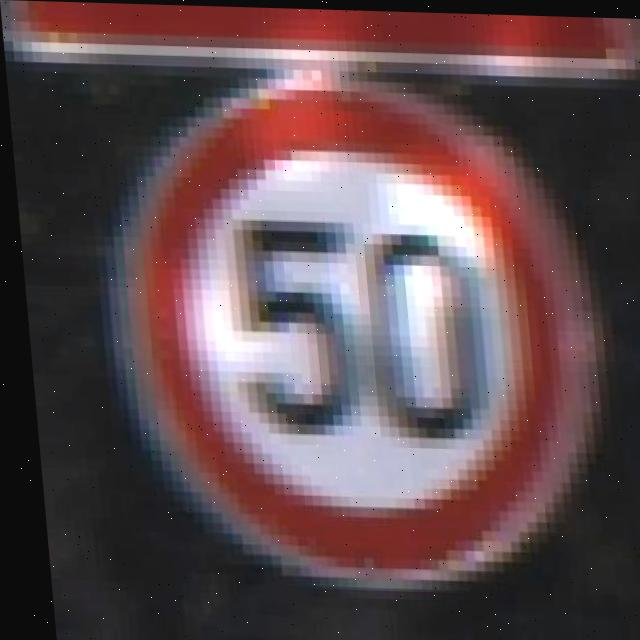Speed limit 50: (88, 70, 617, 593)
